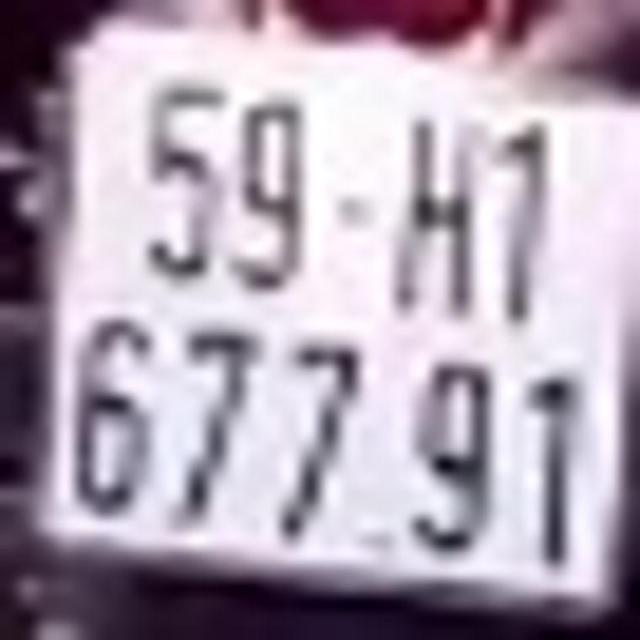1: (517, 364, 582, 572), (498, 110, 556, 324)
5: (146, 82, 232, 288)
7: (166, 318, 260, 538), (68, 307, 159, 527), (278, 330, 366, 548)
9: (405, 352, 495, 559), (238, 90, 310, 301)
H: (391, 107, 478, 320)
